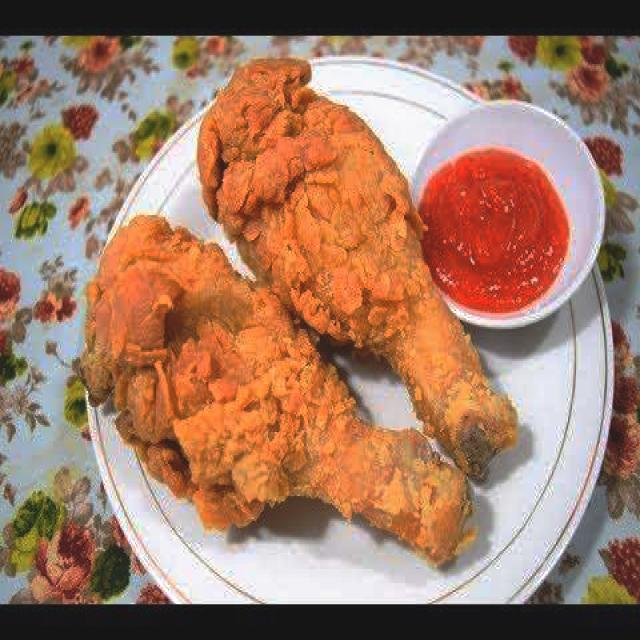fried_chicken: (85, 208, 472, 572), (195, 55, 522, 485)
